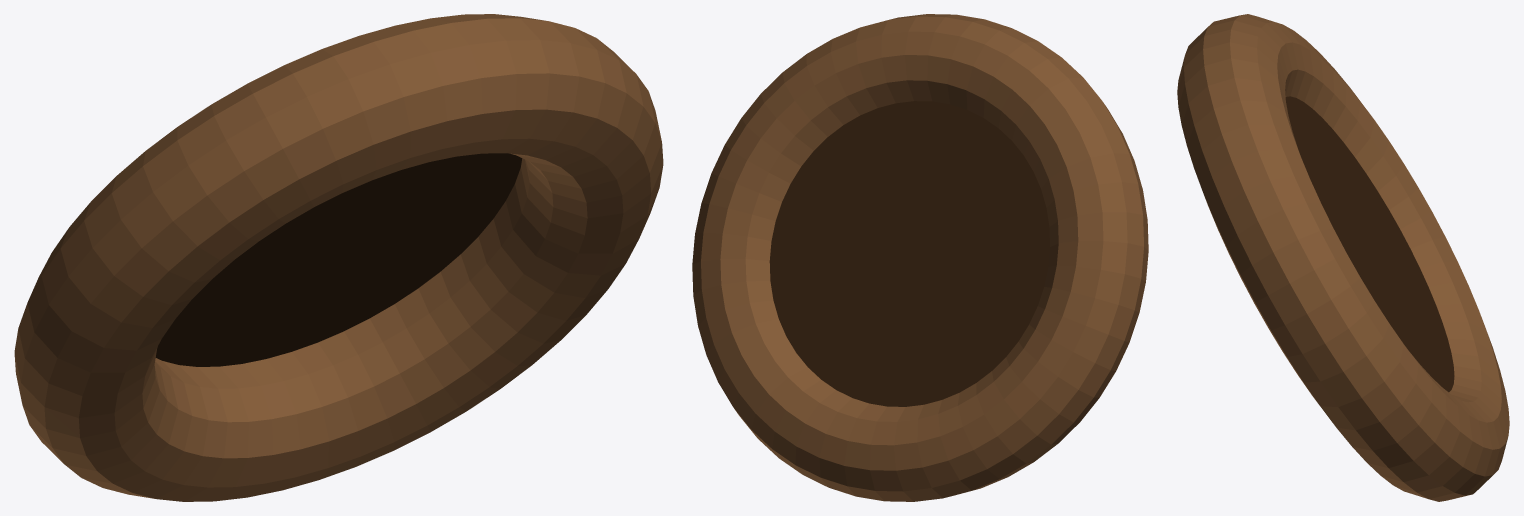
File: hole.glb
3 views of the same model, side by side, from view 1: azimuth 30°, elevation 25°; view 2: azimuth 150°, elevation 25°; view 3: azimuth 270°, elevation 25° (orthographic). The views are drawn at different scales.
Parts seen in each view (by area): view 1: 토러스; view 2: 토러스; view 3: 토러스.
Part boxes in pixels (left/top/right/bottom): 토러스: left=14, top=14, right=663, bottom=501; 토러스: left=692, top=14, right=1148, bottom=501; 토러스: left=1177, top=14, right=1509, bottom=501.
Size of the model in its own units: 0.2383 by 0.2104 by 0.1469.
